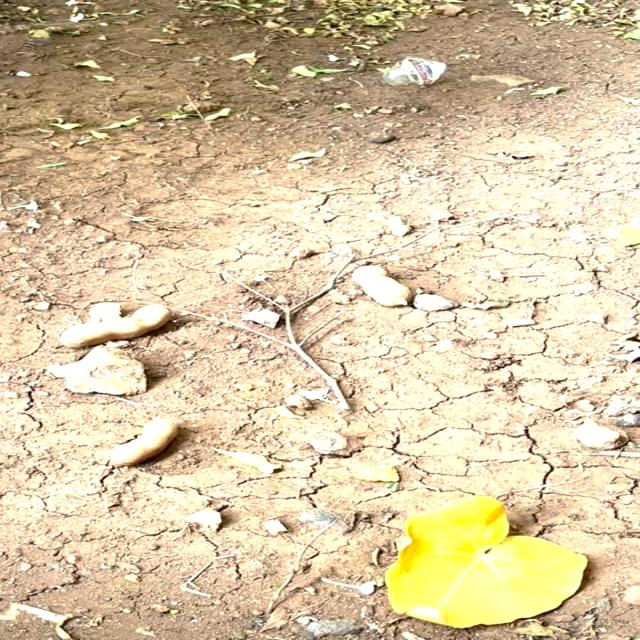tamarind: (62, 297, 187, 348), (89, 413, 187, 472), (349, 262, 427, 308)
